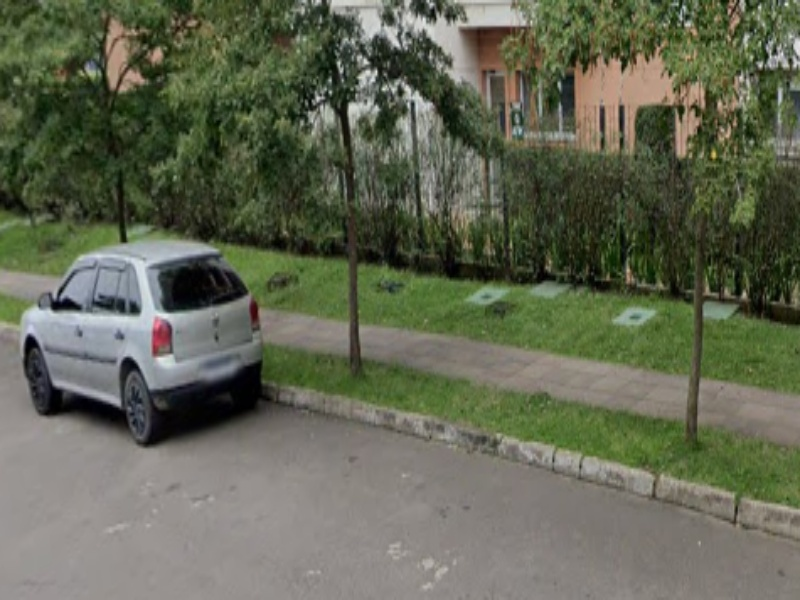v13: (273, 348, 800, 571)
